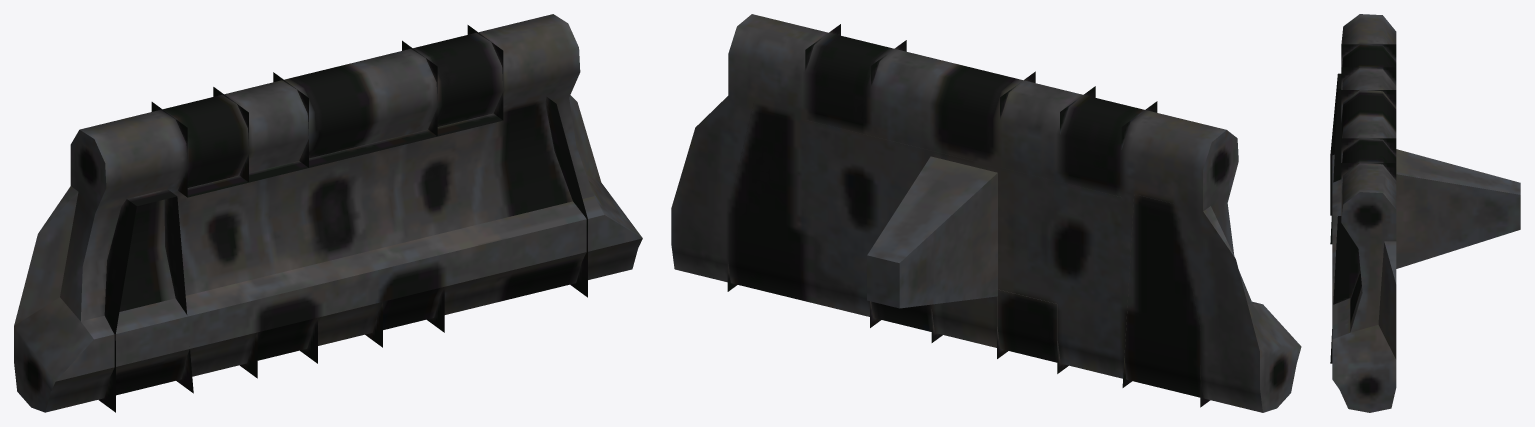
Rendered from track.glb.
3 renders of one model, left to right at view 1: azimuth 30°, elevation 25°; view 2: azimuth 150°, elevation 25°; view 3: azimuth 270°, elevation 25°, orthographic. The views are drawn at different scales.
Visible parts, largest first — view 1: set_0_group_0; view 2: set_0_group_0; view 3: set_0_group_0.
Boxes of the visible parts, x1,y1,x2,y2 form: set_0_group_0: (14, 14, 642, 412); set_0_group_0: (671, 14, 1301, 412); set_0_group_0: (1330, 14, 1520, 412).
Size of the model in its own units: 0.4981 by 0.2125 by 0.1814.
1 material, 1 textured.
